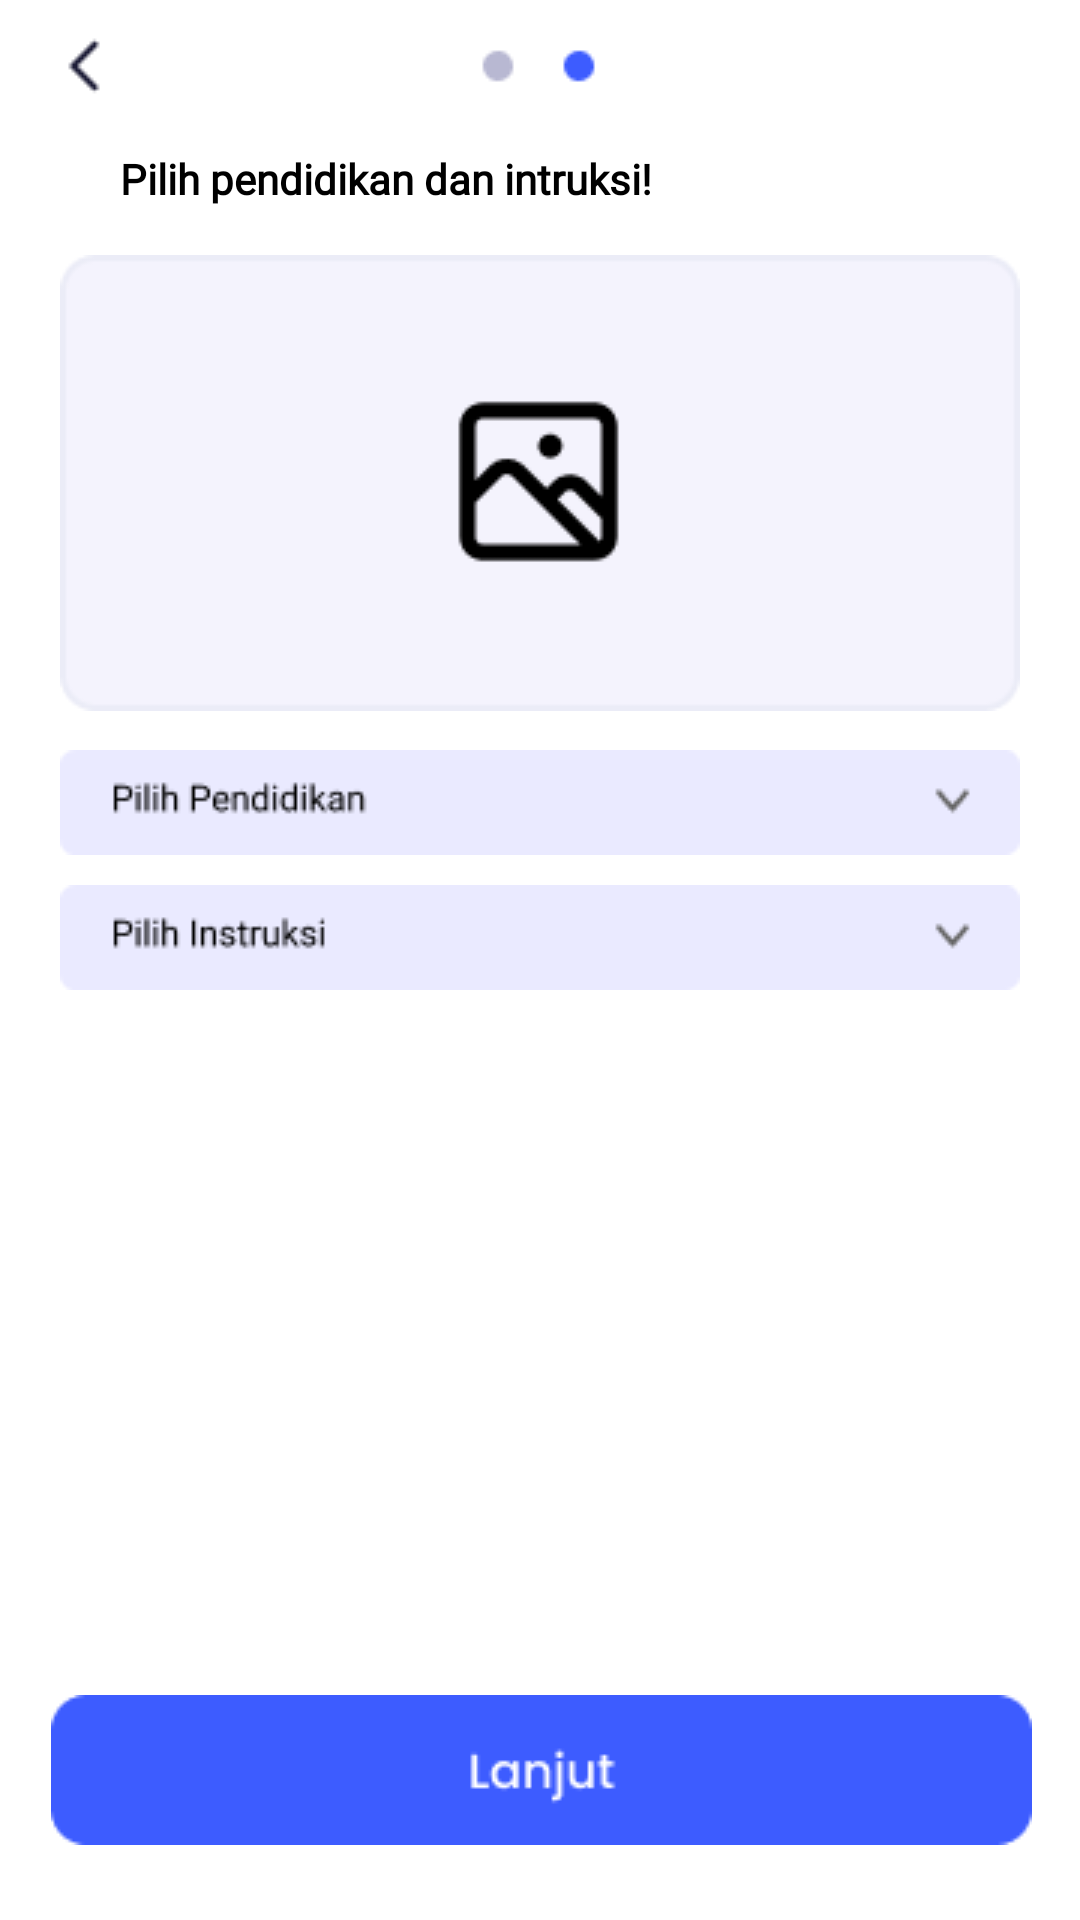

Screen size 1080px×1920px. Icon name, then its center in pixels as (x=x, y=y):
hasilupload tanyatutor: (x=538, y=481)
